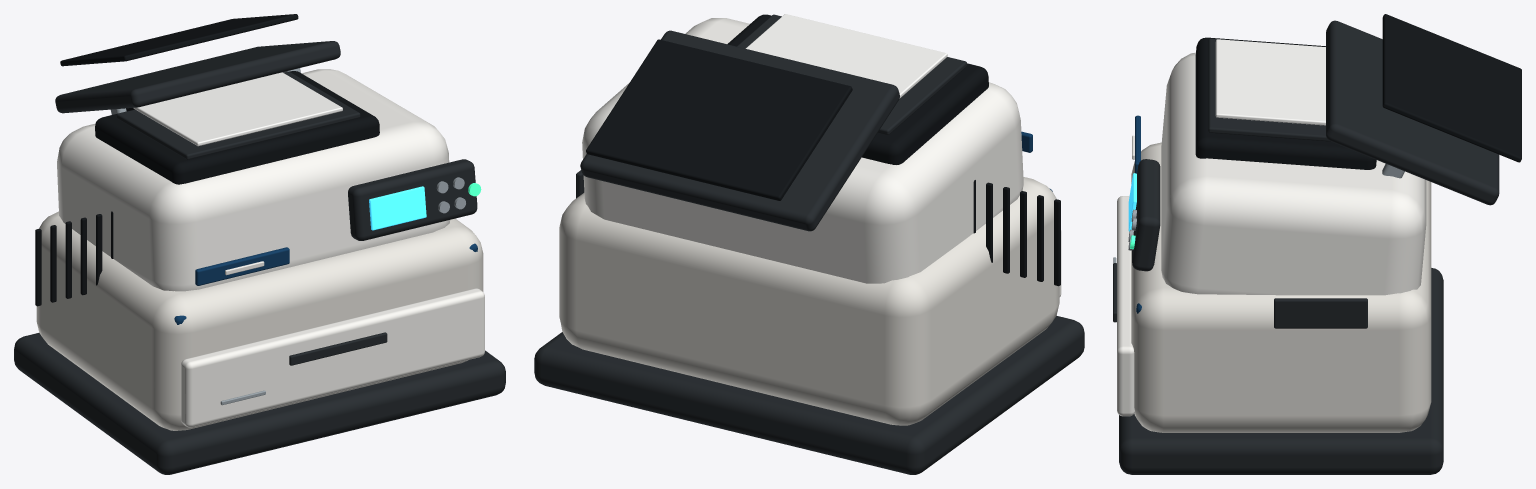
The model's file is laser-printer.glb.
3 renders of one model, left to right at view 1: azimuth 30°, elevation 25°; view 2: azimuth 150°, elevation 25°; view 3: azimuth 270°, elevation 25°, orthographic. The views are drawn at different scales.
Parts seen in each view (by area): view 1: MSBM premium desktop laser printer; view 2: MSBM premium desktop laser printer; view 3: MSBM premium desktop laser printer.
Part boxes in pixels (x1,y1,x2,y2): MSBM premium desktop laser printer: [14, 14, 505, 474]; MSBM premium desktop laser printer: [534, 14, 1084, 474]; MSBM premium desktop laser printer: [1113, 14, 1521, 474].
Size of the model in its own units: 1.97 by 1.51 by 1.65.
